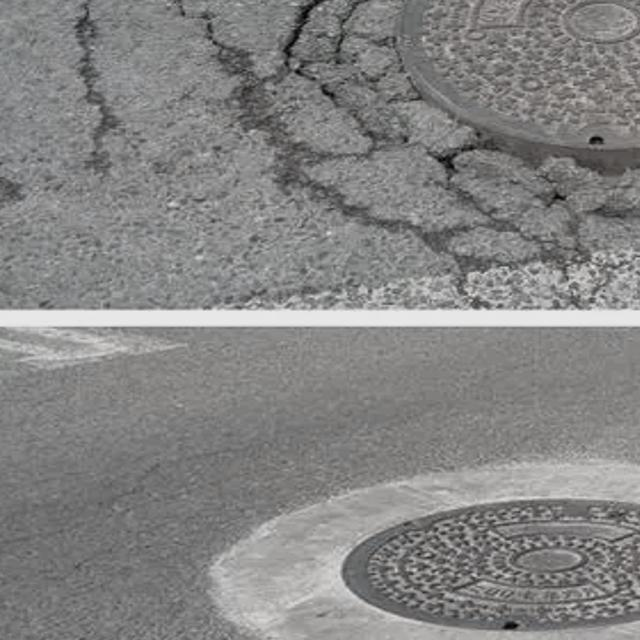circle: (244, 0, 640, 242)
